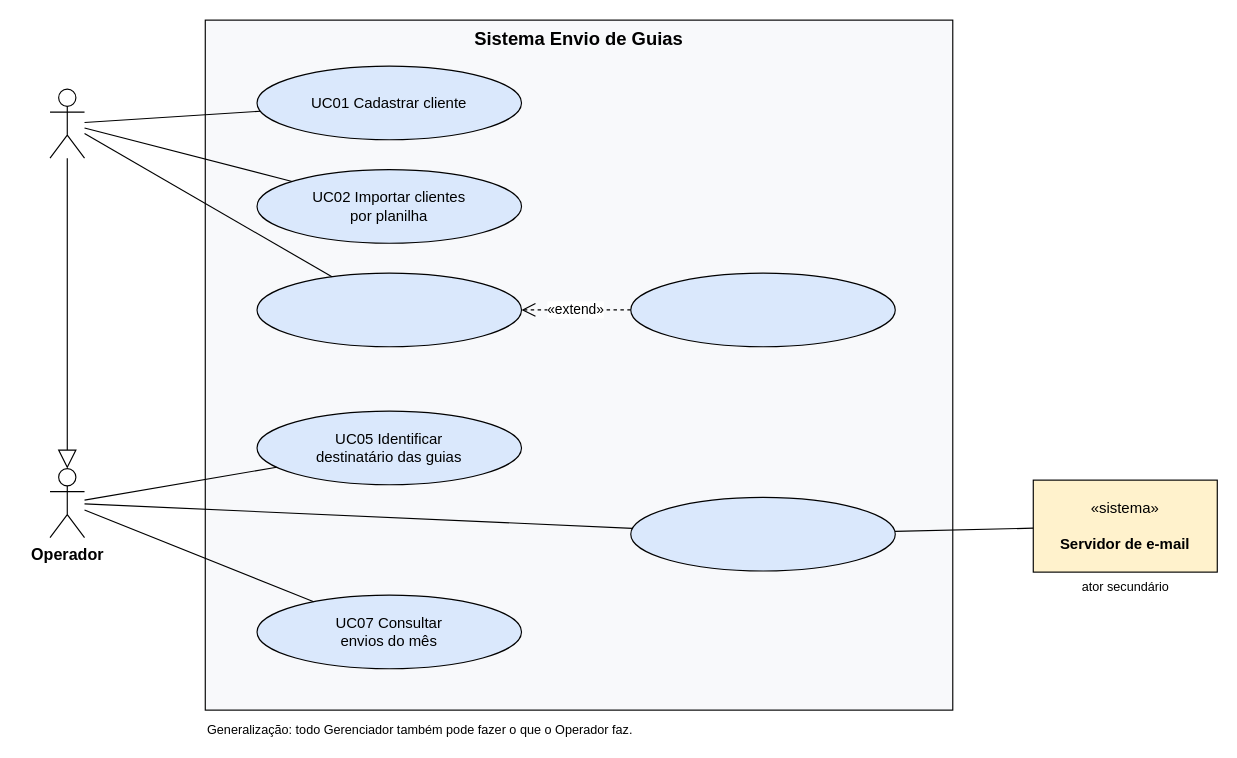
Some shapes in this 1237 by 758 pixel diagram are drawn without their labels. The shapes that lost their labels are listed below. From the top down, each one's centre as x and y in pixels, then its label:
At (67,123): "Gerenciador".
At (389,309): "UC03 Revisar documento pendente".
At (762,309): "UC04 Cadastrar regra de reconhecimento".
At (762,533): "UC06 Enviar guias do mês".
